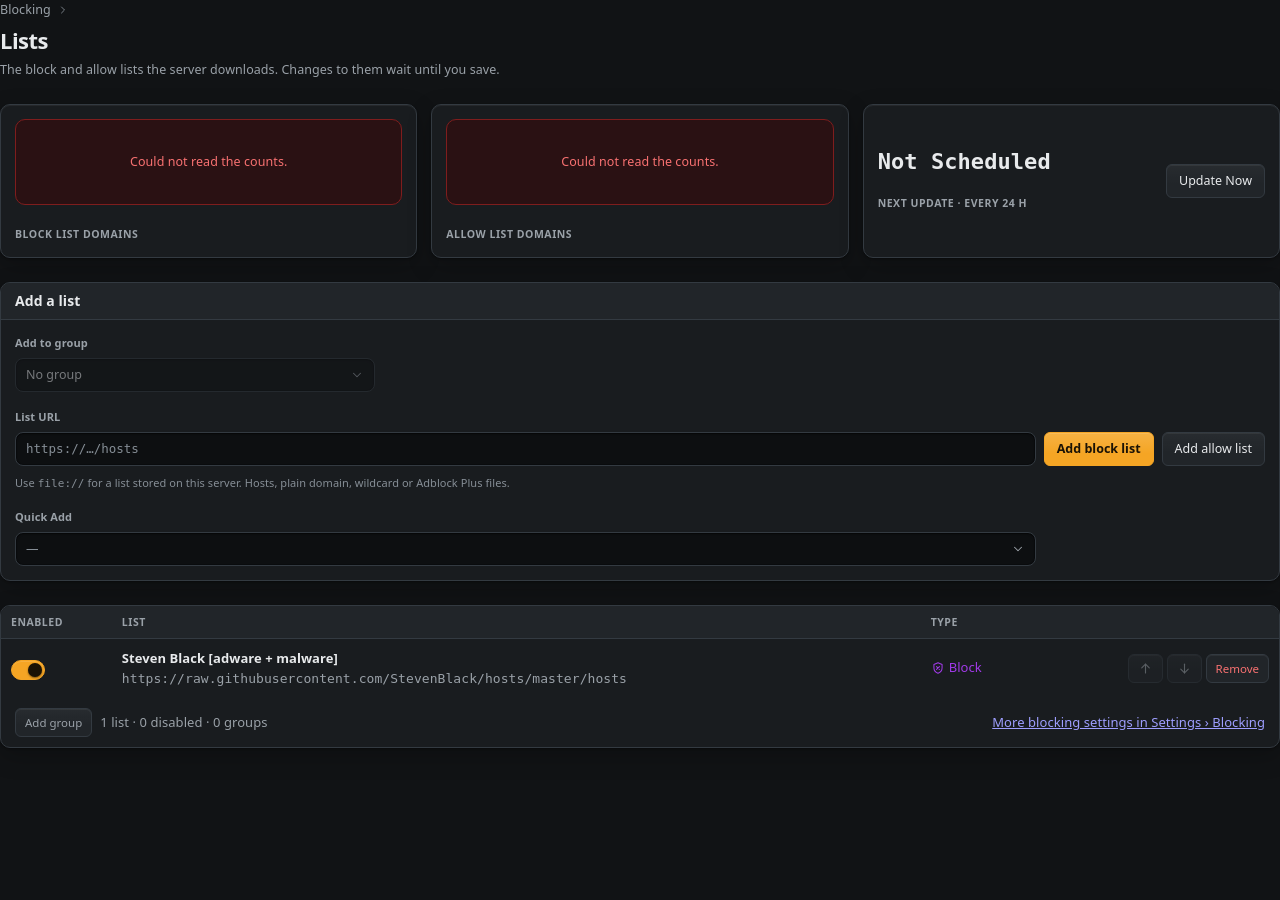
Test case: BlockLists › Quick Add None empties the table and Discard brings it back
Expected: the table is shown, [1,606,1279,698]
Click the dropdown named "Quick Add" at [32, 548], box [15,532,1036,566]
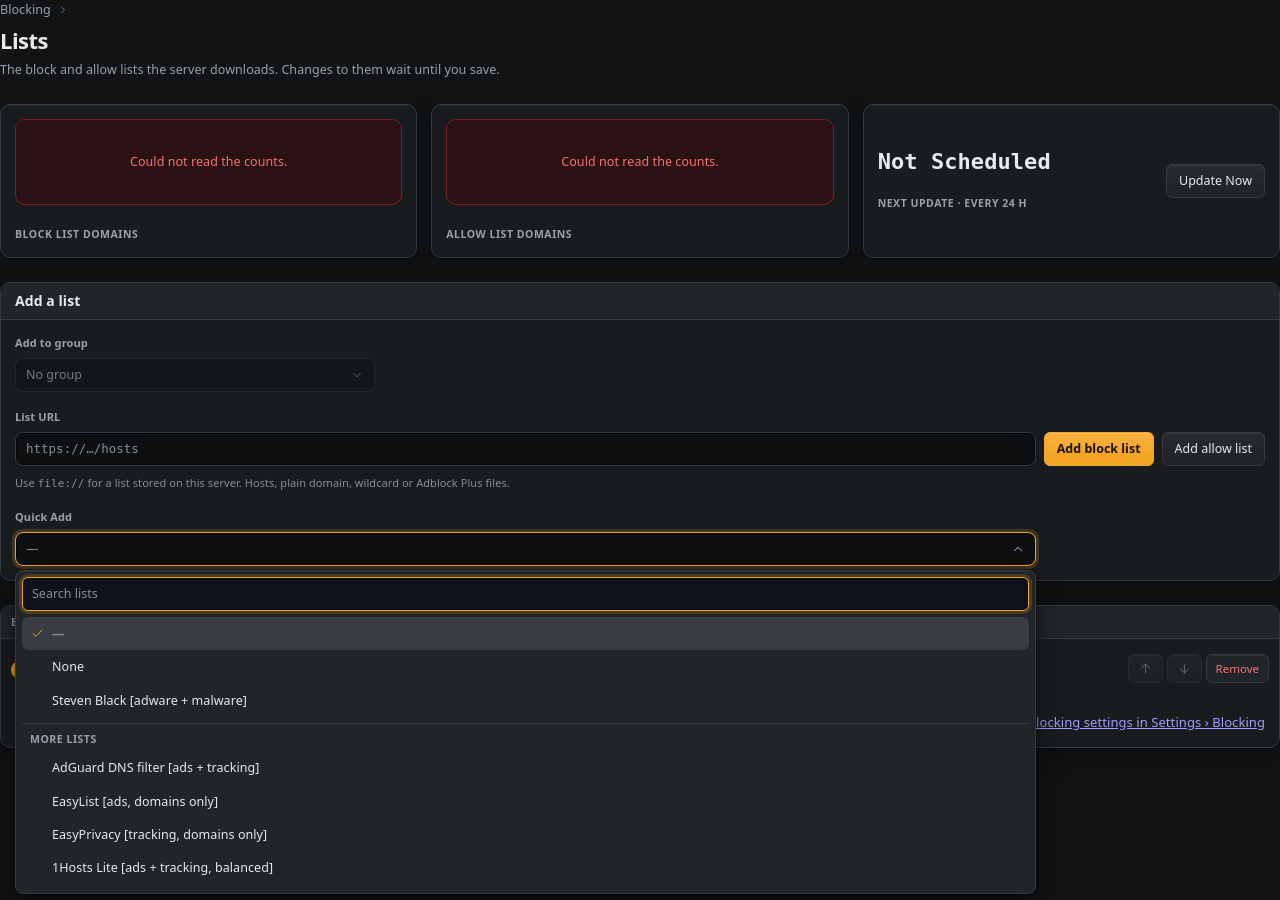
Click the option "None" at [68, 667], box [52,658,84,675]
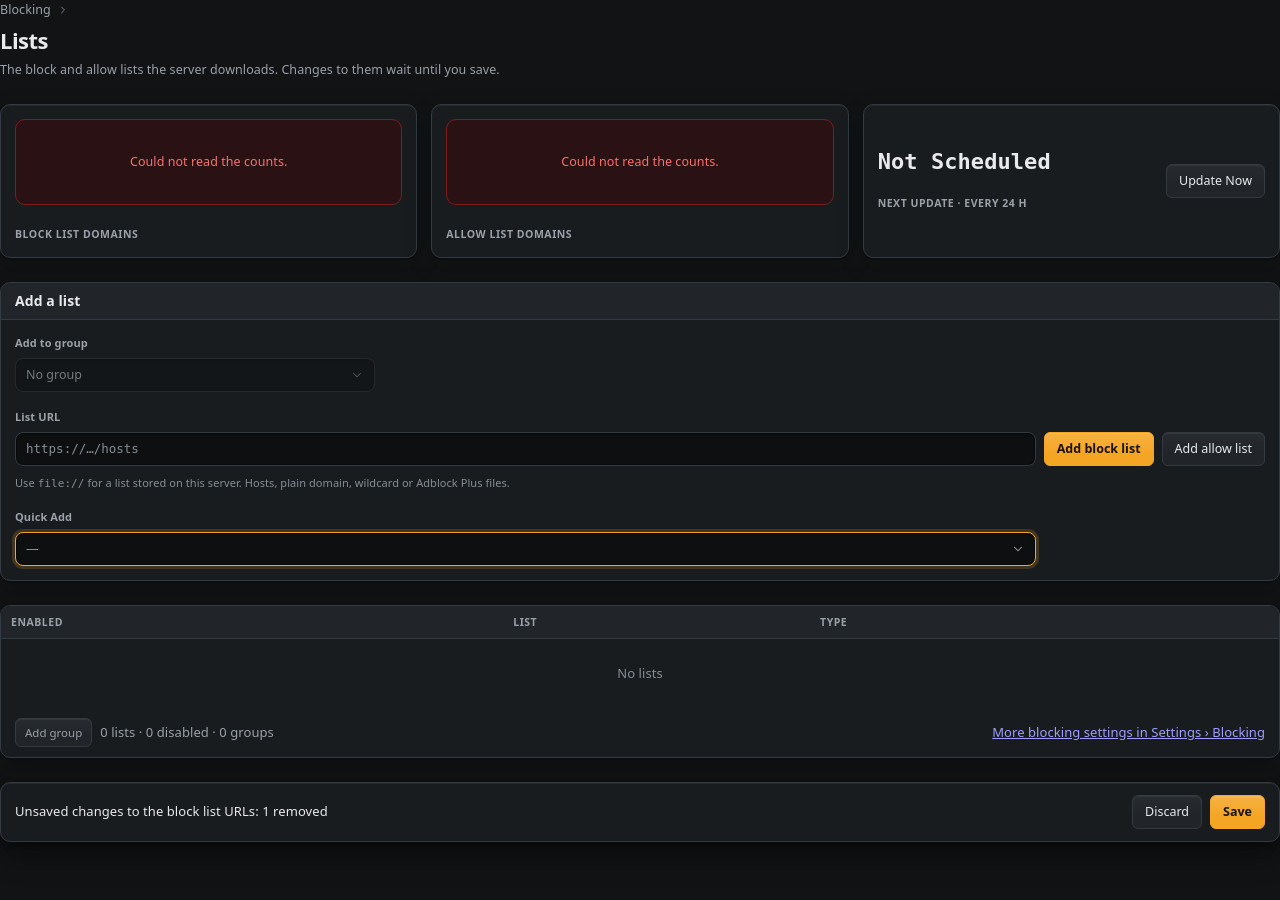
Now the text "No lists" is shown, box [1,639,1279,708]
Click the button "Discard" at [1167, 812], box [1132,794,1202,828]
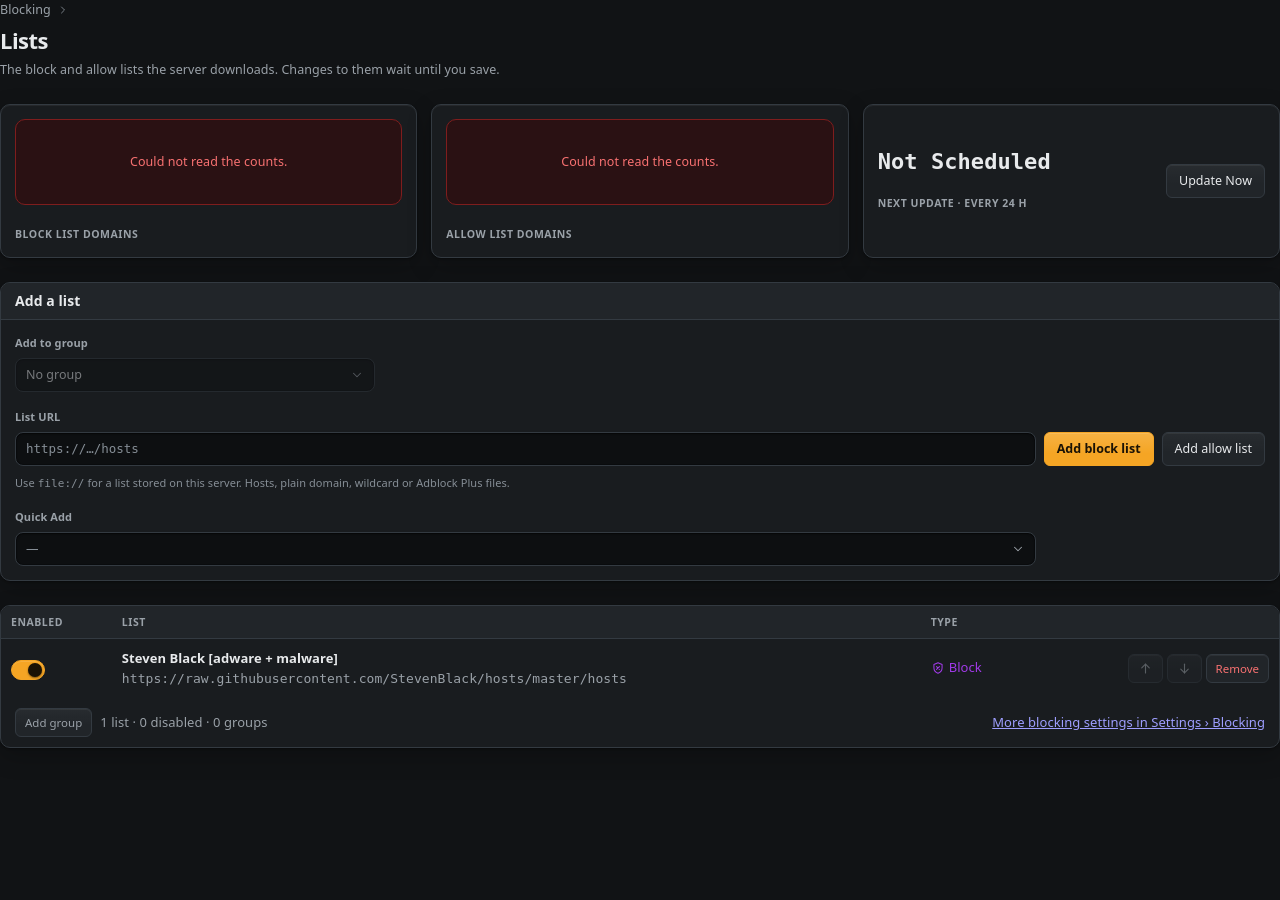
Now the text "Steven Black [adware + malware]" is shown, box [122,649,338,667]
